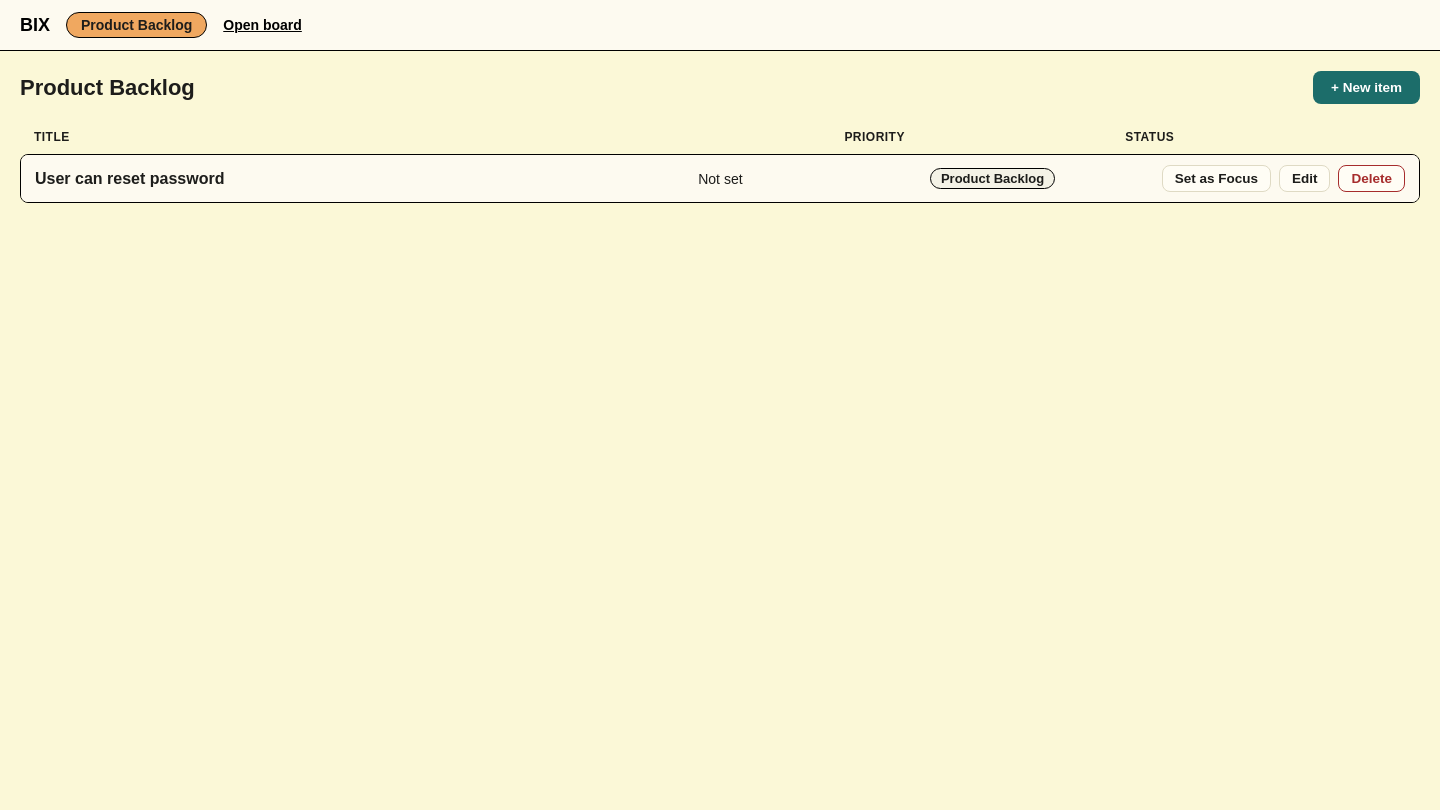
Test: ProductBacklog page - delete with confirmation (US-04b, SCRUM-102) › asks "Are you sure?" before deleting, and deletes nothing on Cancel
The image size is (1440, 810).
Click the button with aria-label "Delete User can reset password" at (1372, 178), box [1338, 165, 1405, 192]
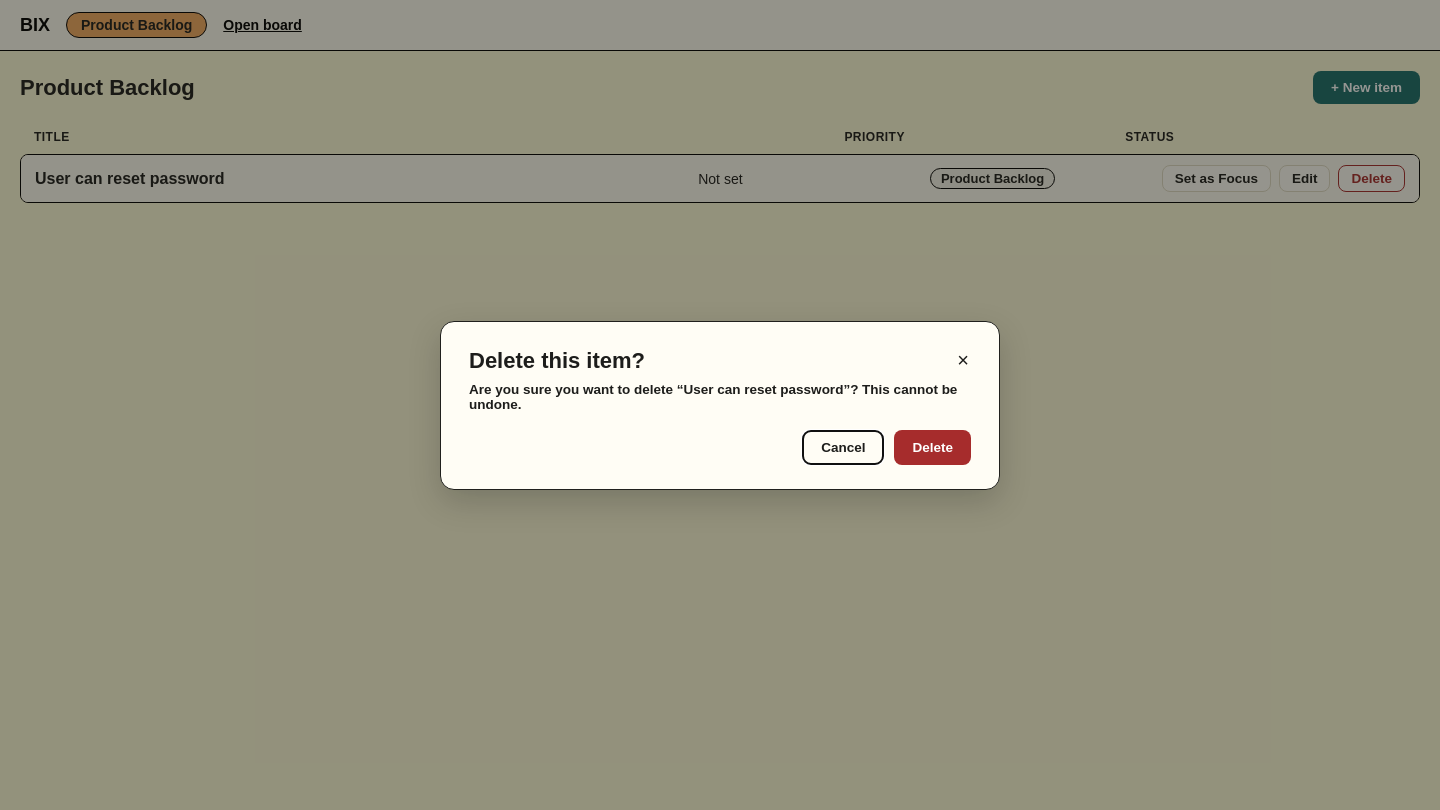
Expected: the text "Are you sure you want to delete" is shown, [469, 382, 684, 396]
Click the button "Cancel" at (843, 447), box [802, 430, 884, 464]
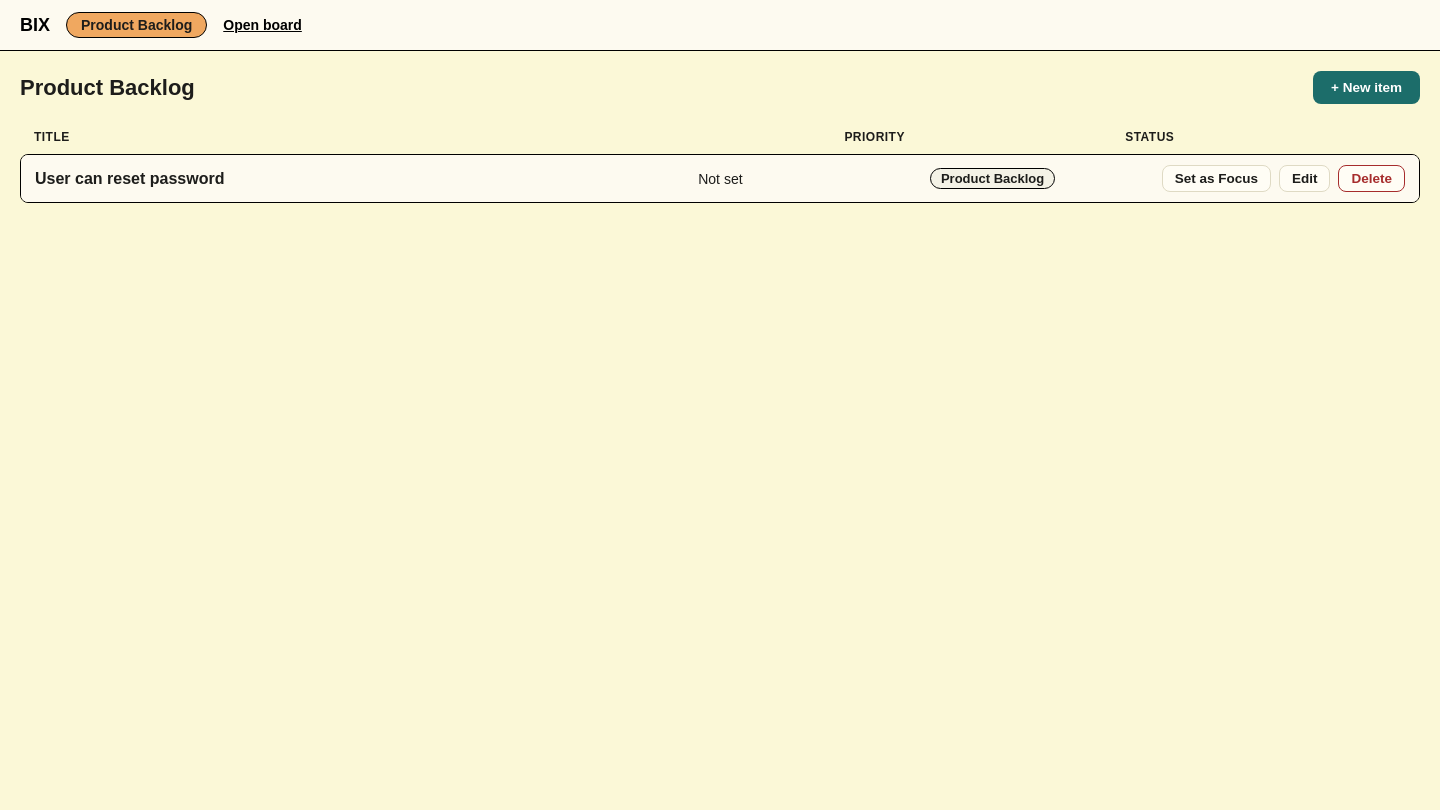
Expected: the text "User can reset password" is shown, [35, 170, 224, 186]
Expected: the dialog is gone
